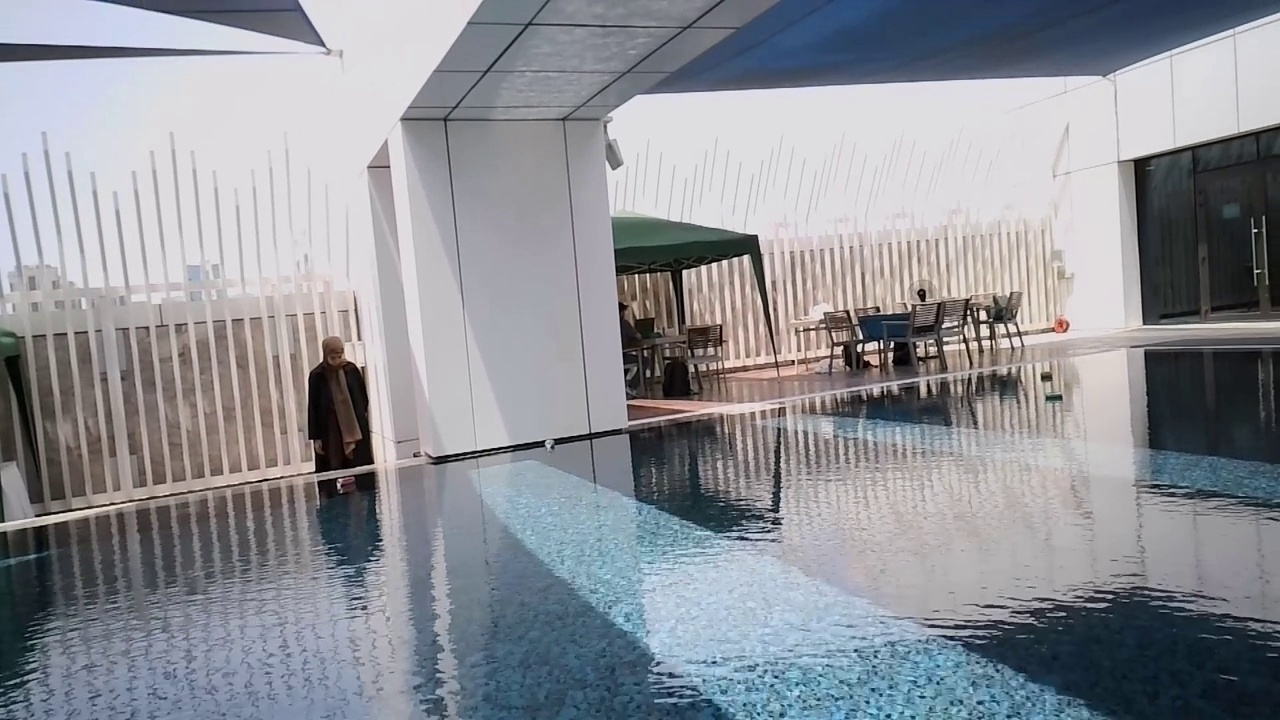debris: (331, 471, 355, 490), (1042, 390, 1066, 406), (1038, 369, 1053, 384), (542, 438, 558, 451)
